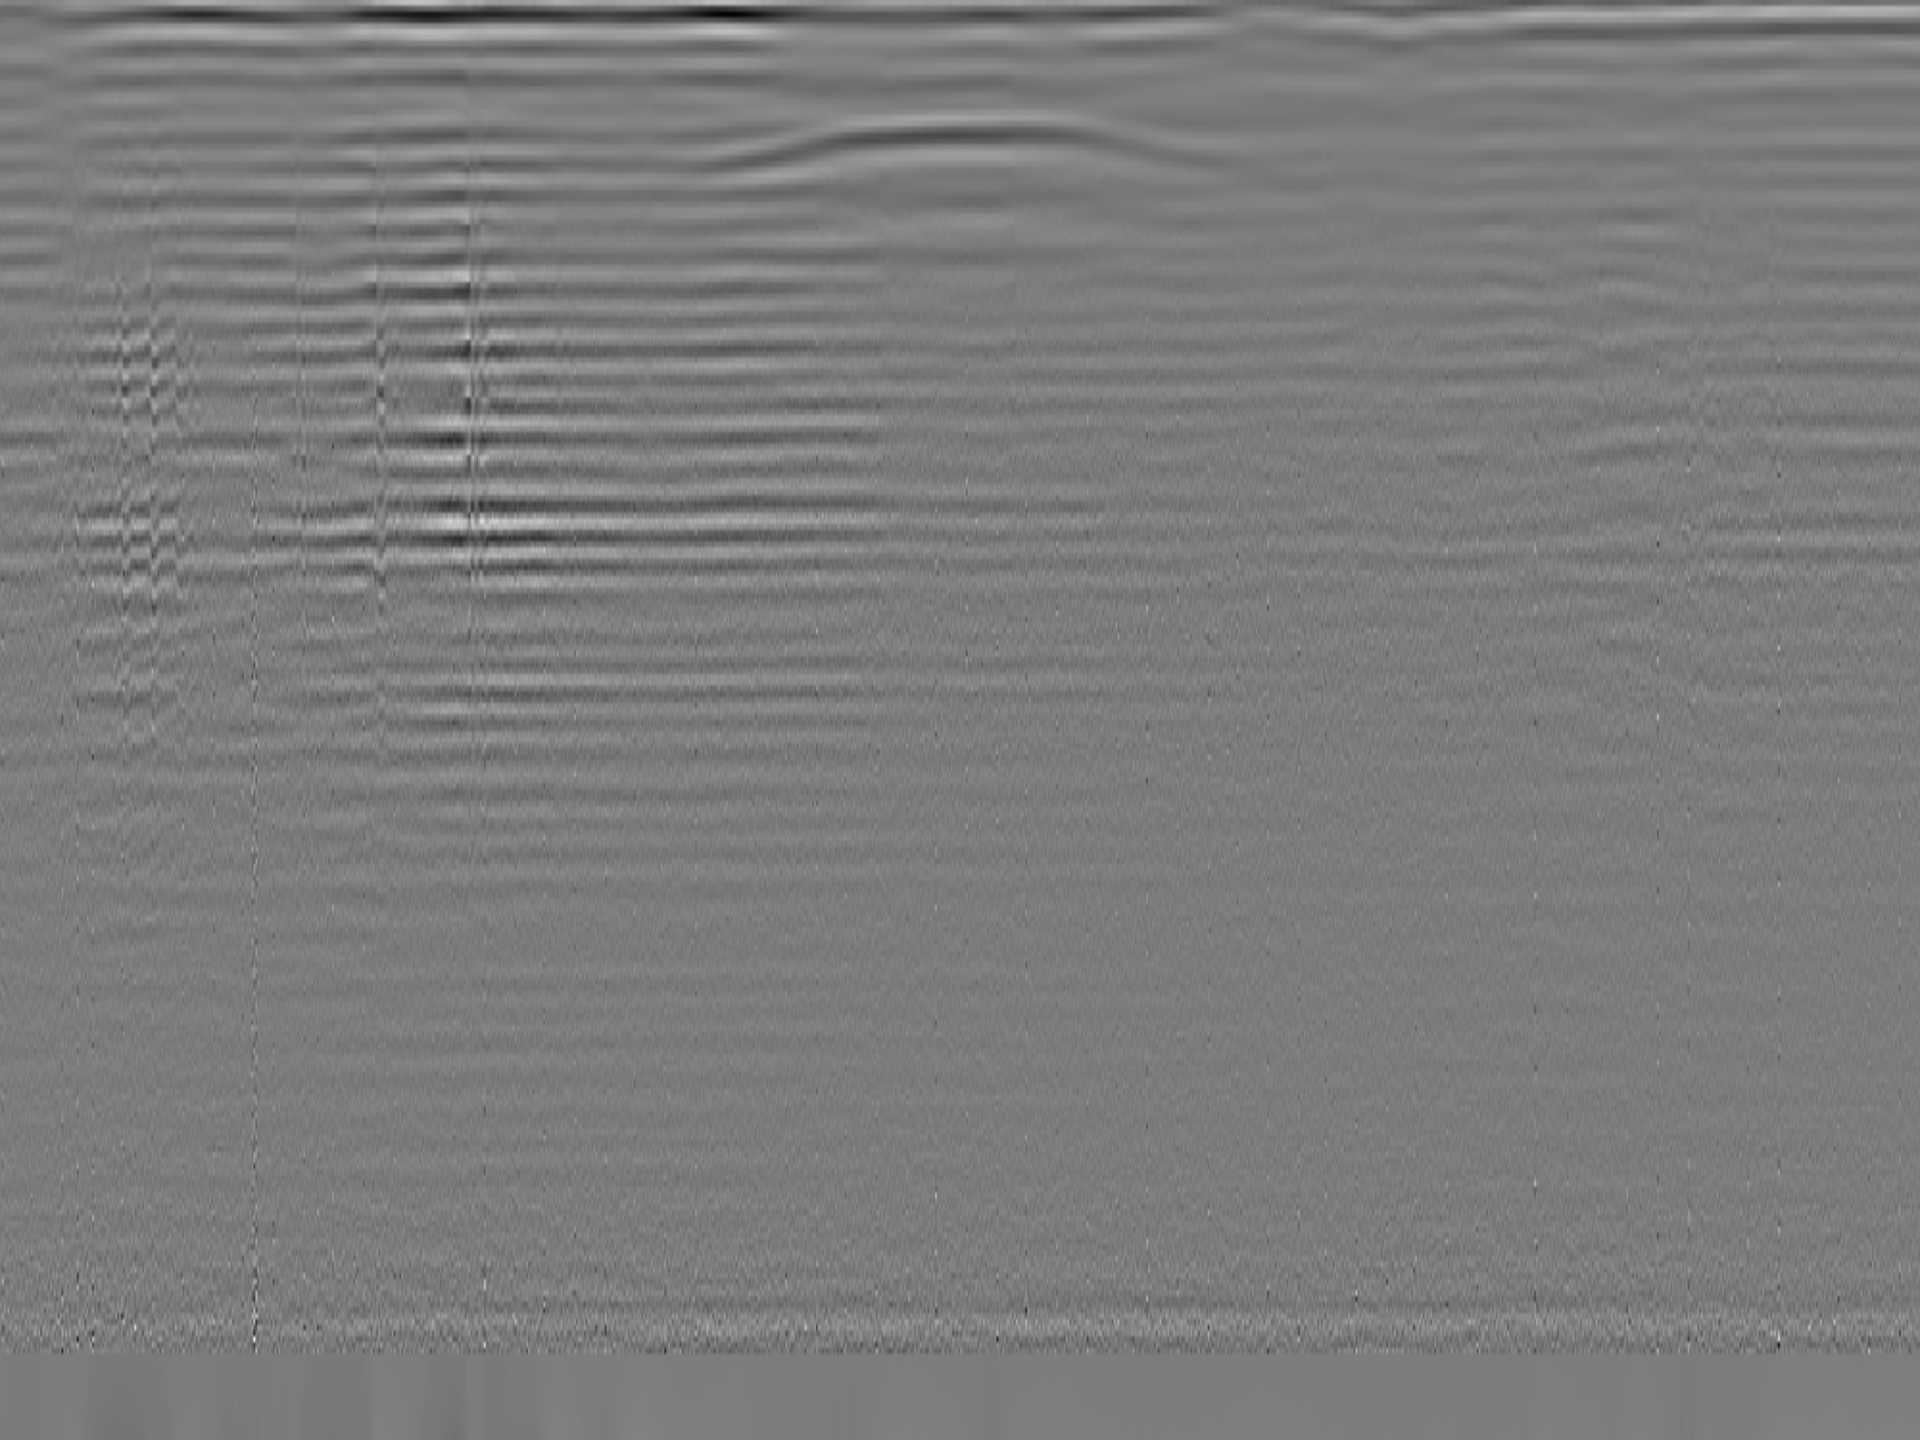Tunnel: (695, 112, 1270, 188)
